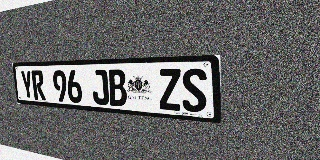6: (66, 70, 83, 103)
9: (52, 70, 68, 102)
B: (107, 69, 128, 107)
J: (91, 70, 110, 105)
R: (31, 70, 46, 100)
S: (181, 68, 207, 113)
Y: (20, 70, 34, 99)
Z: (158, 69, 182, 111)
